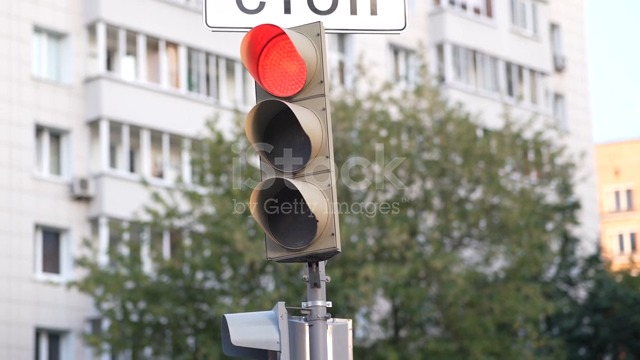red traffic light: (222, 10, 351, 270)
